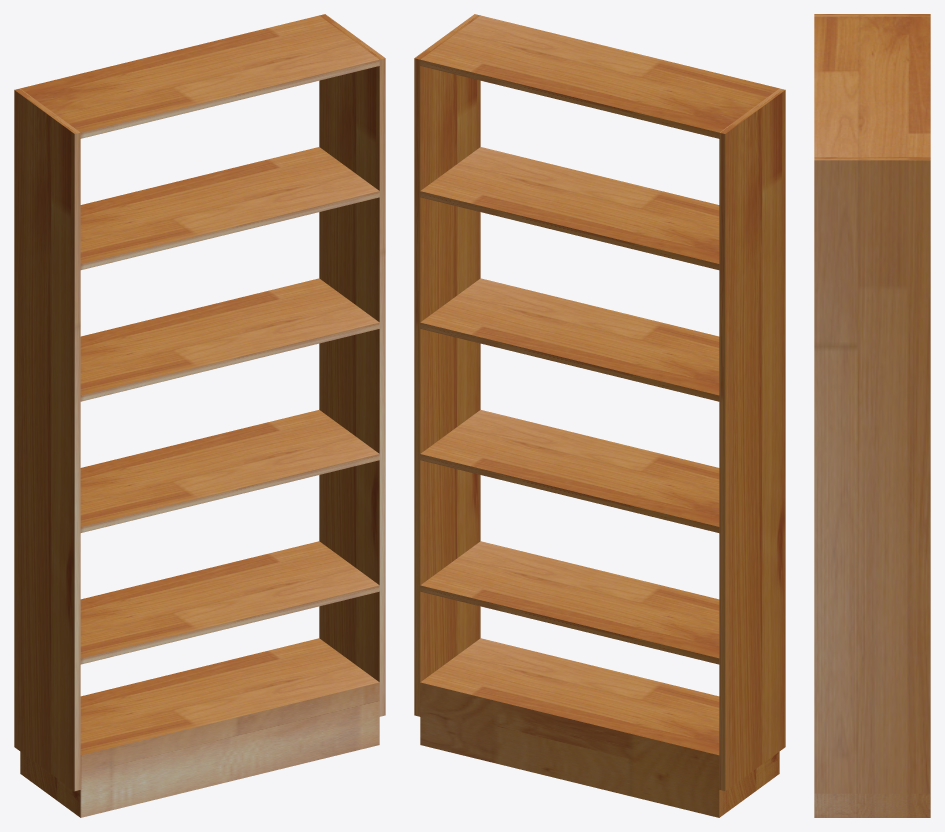
3 renders of one model, left to right at view 1: azimuth 30°, elevation 25°; view 2: azimuth 150°, elevation 25°; view 3: azimuth 270°, elevation 25°, orthographic. The views are drawn at different scales.
Visible parts, largest first — view 1: lateral2, estanteria, lateral1, basal5, basal1, basal4, basal3, basal2; view 2: lateral2, estanteria, lateral1, basal5, basal1, basal4, basal3, basal2; view 3: lateral1, basal5, estanteria, lateral2.
Boxes of the visible parts, x1=… form: lateral2: x1=14, y1=88, x2=80, y2=790; estanteria: x1=20, y1=638, x2=379, y2=817; lateral1: x1=319, y1=14, x2=385, y2=716; basal5: x1=20, y1=15, x2=379, y2=138; basal1: x1=80, y1=541, x2=379, y2=664; basal4: x1=80, y1=147, x2=379, y2=269; basal3: x1=80, y1=278, x2=379, y2=401; basal2: x1=80, y1=410, x2=379, y2=532; lateral2: x1=719, y1=88, x2=785, y2=790; estanteria: x1=420, y1=638, x2=779, y2=817; lateral1: x1=414, y1=14, x2=480, y2=716; basal5: x1=420, y1=15, x2=779, y2=138; basal1: x1=420, y1=541, x2=719, y2=664; basal4: x1=420, y1=147, x2=719, y2=269; basal3: x1=420, y1=278, x2=719, y2=401; basal2: x1=420, y1=410, x2=719, y2=532; lateral1: x1=814, y1=157, x2=930, y2=793; basal5: x1=814, y1=16, x2=930, y2=157; estanteria: x1=814, y1=793, x2=930, y2=817; lateral2: x1=814, y1=14, x2=930, y2=16.
Bounding box in the file's own units: 1.04 × 0.35 × 2.19.
1 material, 1 textured.
